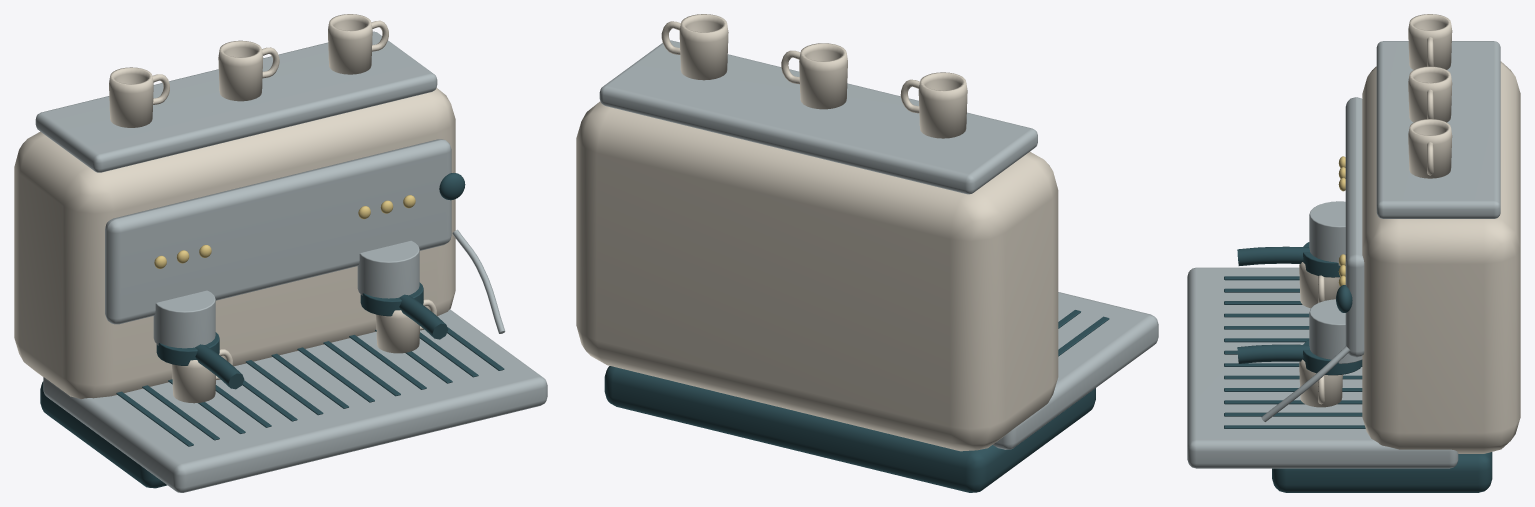
File: ce_espresso.glb
The picture shows the model from 3 angles, left to right: view 1: azimuth 30°, elevation 25°; view 2: azimuth 150°, elevation 25°; view 3: azimuth 270°, elevation 25°; orthographic projection. The views are drawn at different scales.
Visible parts, largest first — view 1: prop; view 2: prop; view 3: prop.
Part boxes in pixels (bbox=[...]): prop: bbox=[14, 14, 547, 492]; prop: bbox=[576, 14, 1158, 492]; prop: bbox=[1187, 14, 1520, 492].
Size of the model in its own units: 0.78 by 0.662 by 0.59.
